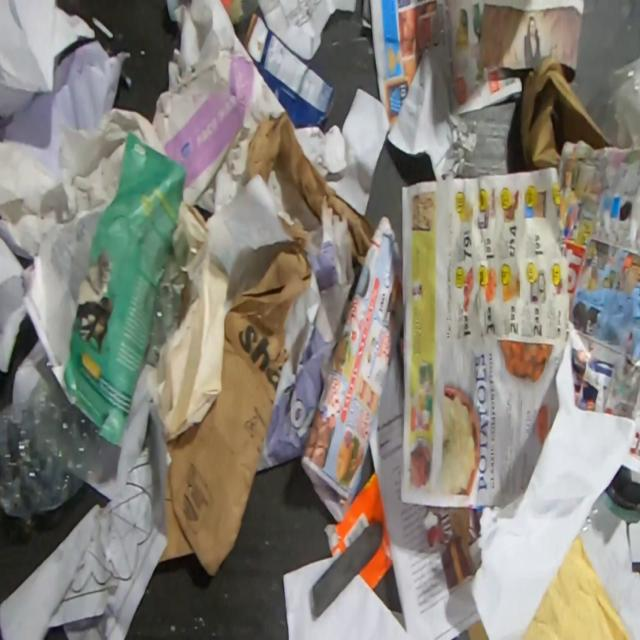cardboard: (242, 9, 338, 129), (520, 56, 613, 172)
rigid_plastic: (0, 363, 105, 517), (142, 266, 200, 368), (164, 0, 266, 25), (576, 492, 603, 540)
soft_plastic: (601, 39, 640, 189)
